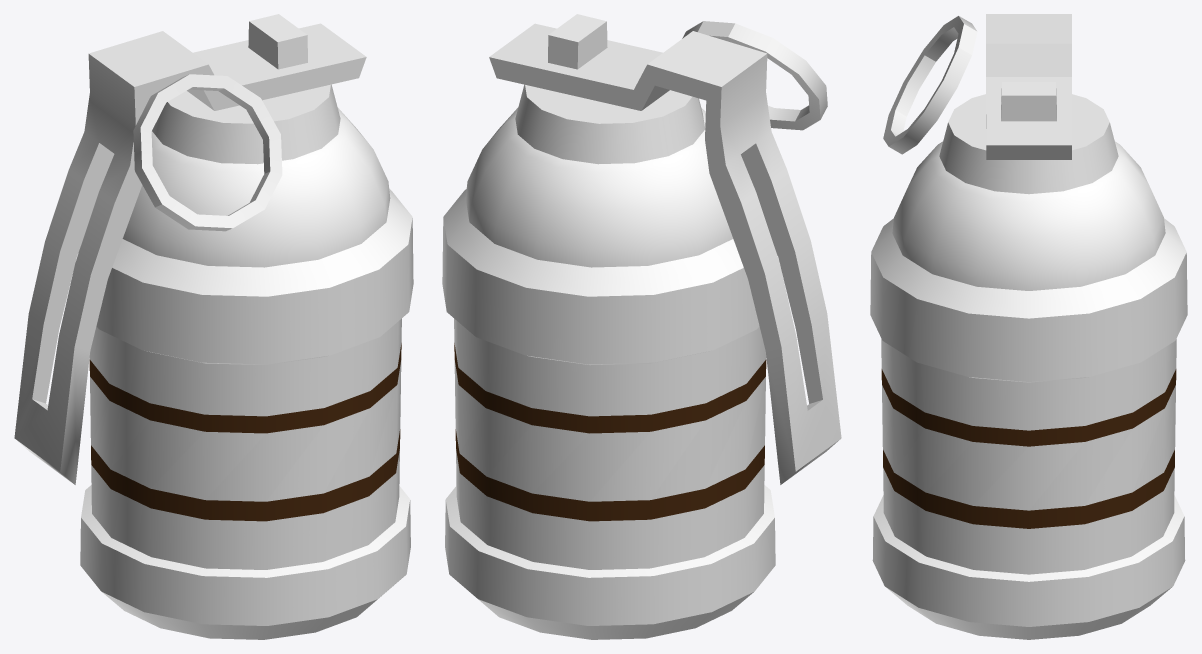
Rendered from FireGrenade.003.fbx.
The picture shows the model from 3 angles, left to right: view 1: azimuth 30°, elevation 25°; view 2: azimuth 150°, elevation 25°; view 3: azimuth 270°, elevation 25°; orthographic projection. The views are drawn at different scales.
Visible parts, largest first — view 1: FireGrenade.003; view 2: FireGrenade.003; view 3: FireGrenade.003.
Boxes of the visible parts, <box> form: FireGrenade.003: <box>14,14,413,639</box>; FireGrenade.003: <box>442,14,841,639</box>; FireGrenade.003: <box>870,14,1187,639</box>.
Bounding box in the file's own units: 0.5695 × 0.85 × 0.4706.
